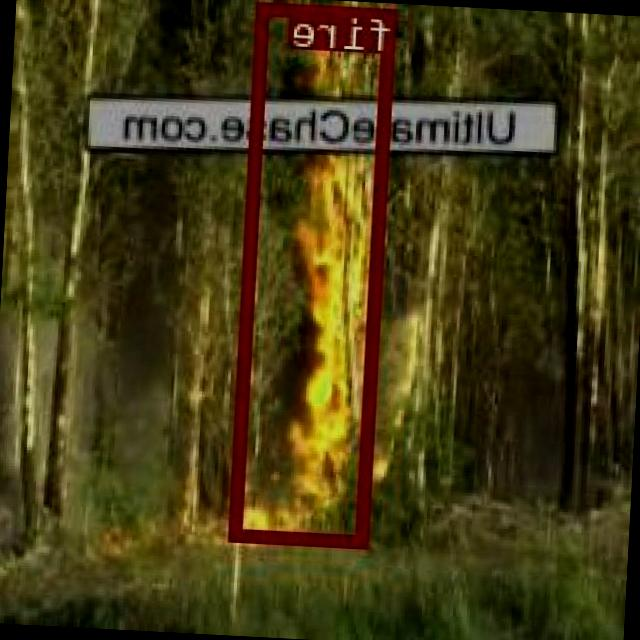fire: (233, 0, 398, 545)
